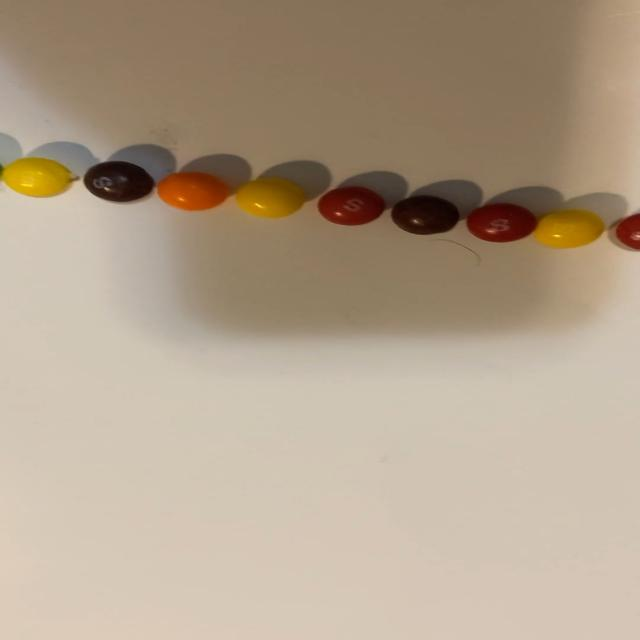smartie: (82, 161, 153, 202), (235, 178, 305, 218), (534, 209, 605, 248), (157, 171, 228, 210), (467, 203, 537, 242), (1, 157, 69, 196), (391, 195, 459, 234), (317, 186, 385, 225)
